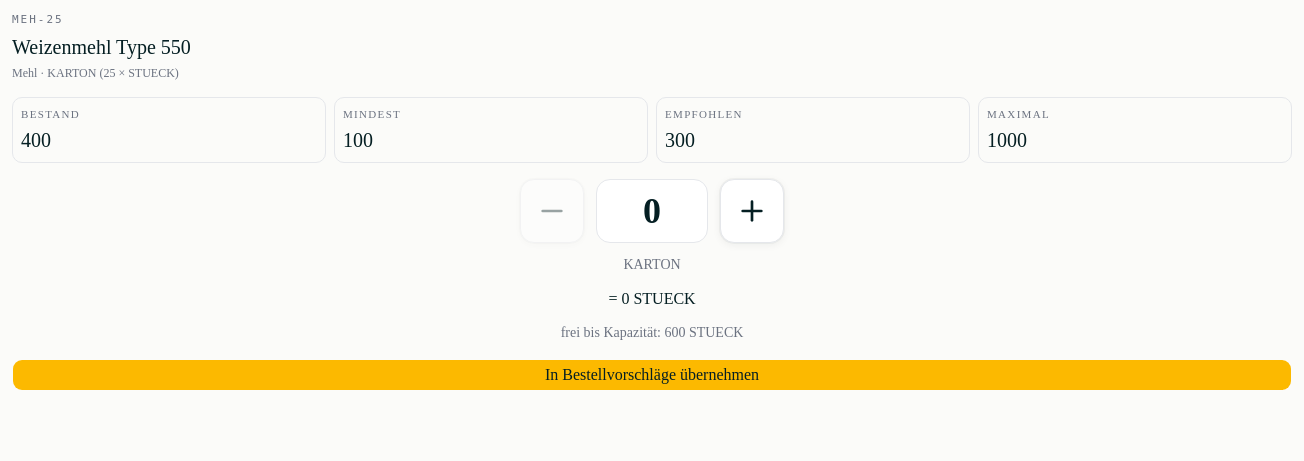
it: ArticleOrderCard › Menge 0 ohne offenen Vorschlag (204) meldet, dass nichts bestellt wird
Expected: the field named "Bestellmenge" holds "0", [596,179,708,243]
Click the button "In Bestellvorschläge übernehmen" at (652, 375), box [12,359,1292,391]
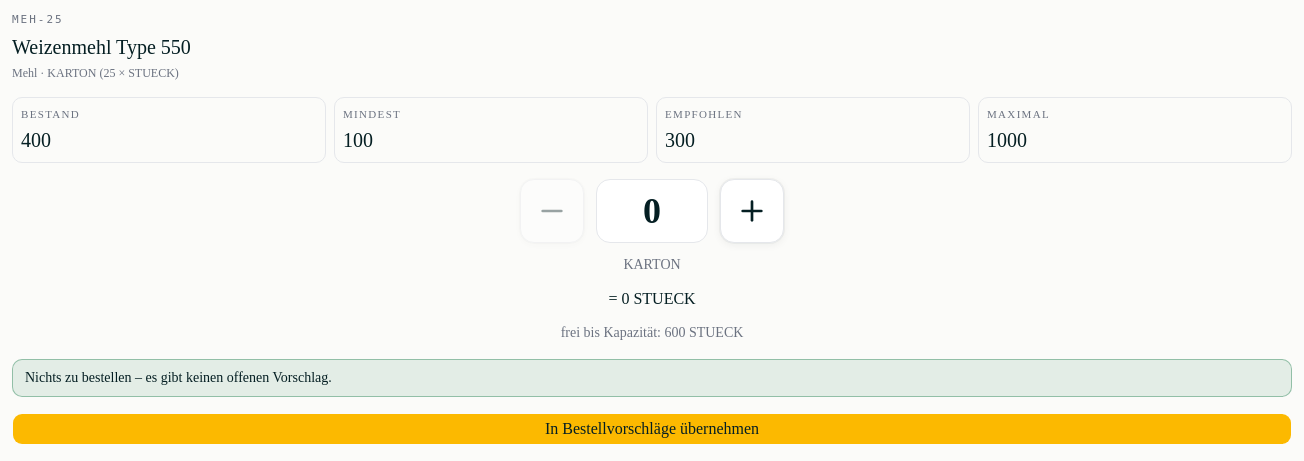
Expected: the text "Nichts zu bestellen – es gibt keinen offenen Vorschlag." is shown, [12,359,1292,397]
